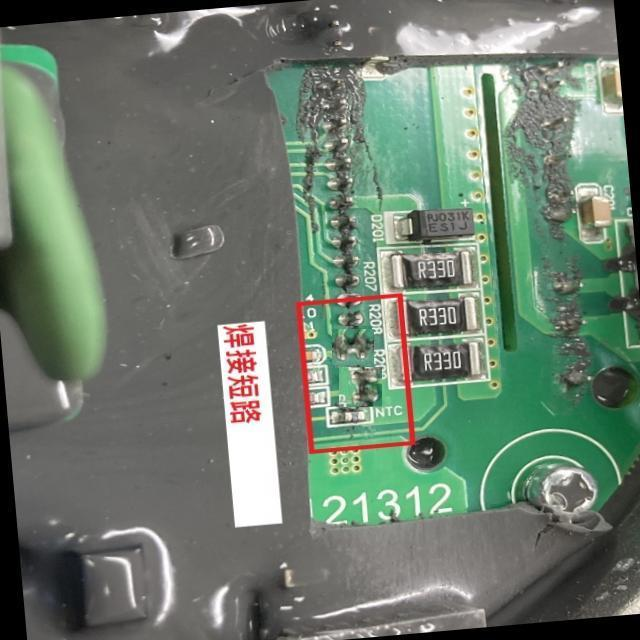damged: (338, 366, 382, 407), (334, 327, 373, 367)
